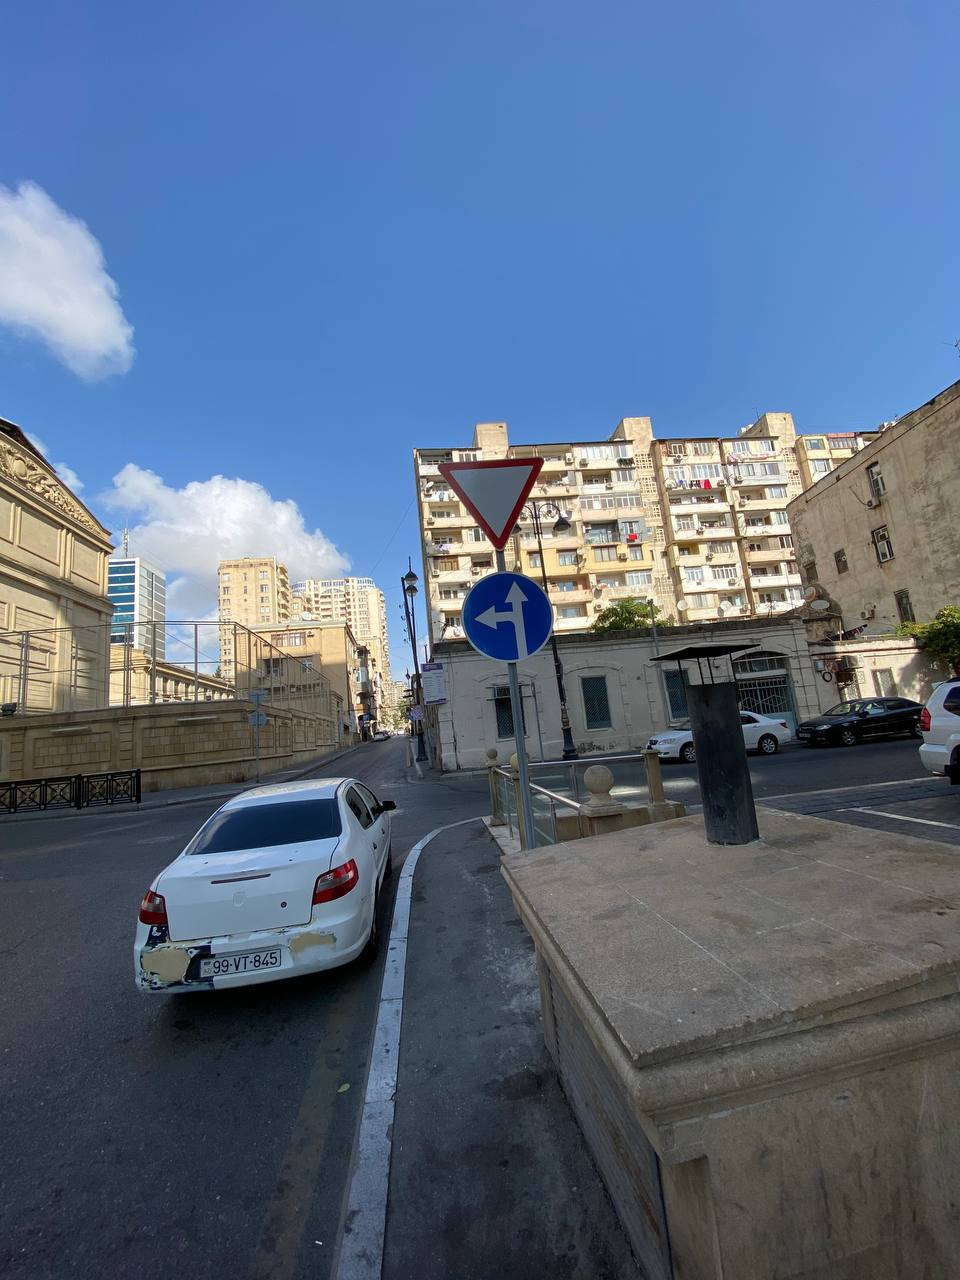Give Way: (437, 456, 545, 552)
Straight or Left: (462, 571, 554, 663)
